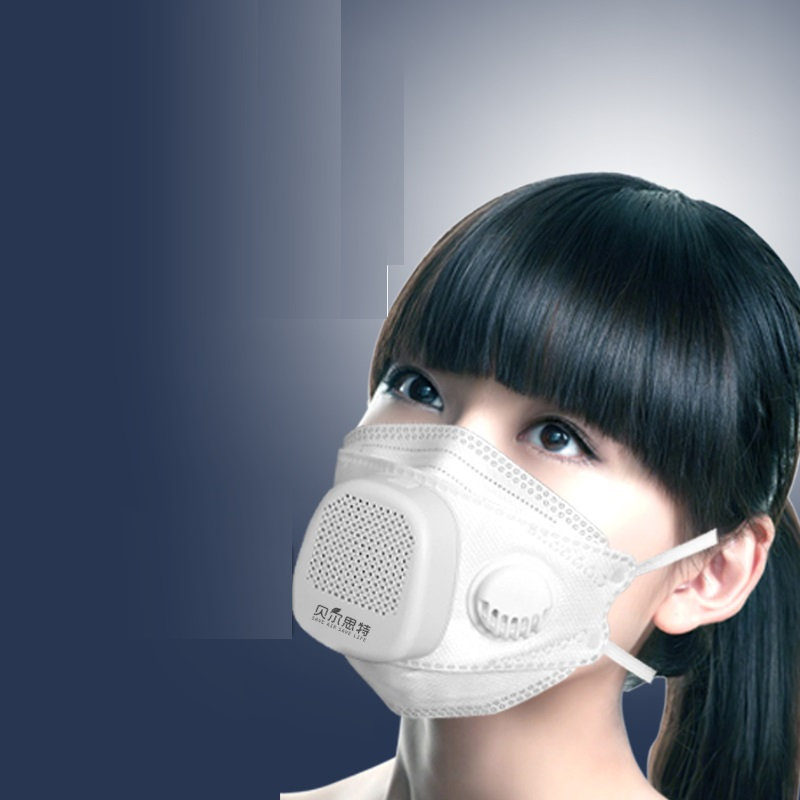face_mask: (339, 297, 671, 717)
